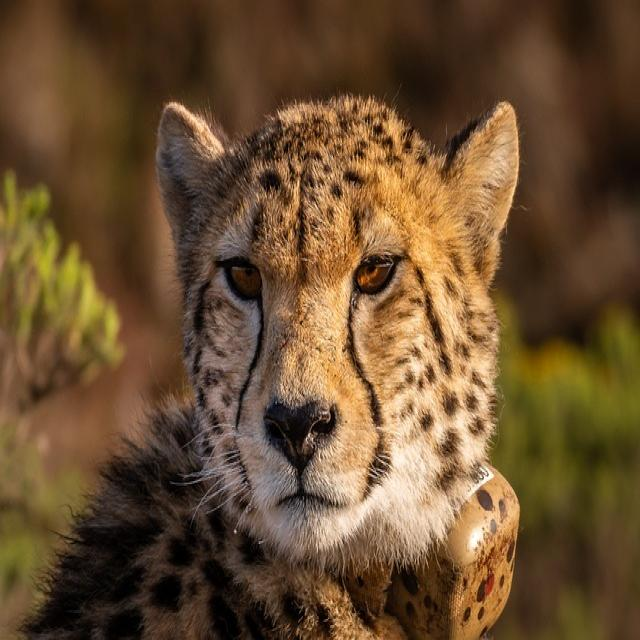Cheetah: (0, 90, 526, 640)
